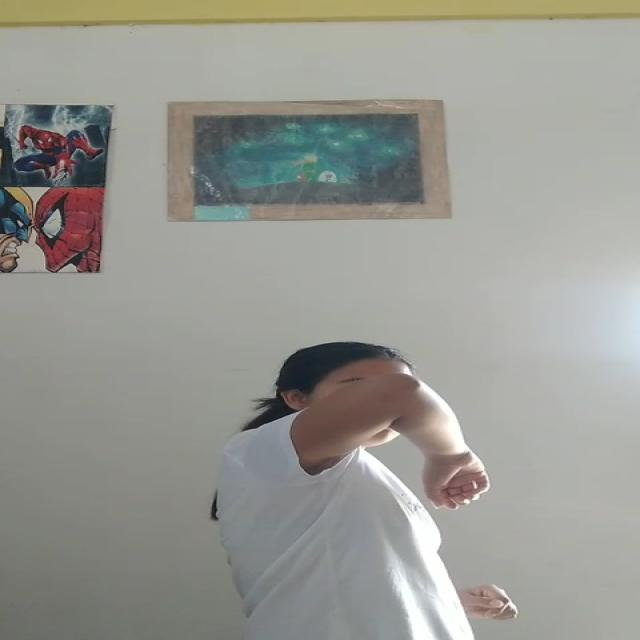7_mano_rostro: (284, 372, 448, 451)
